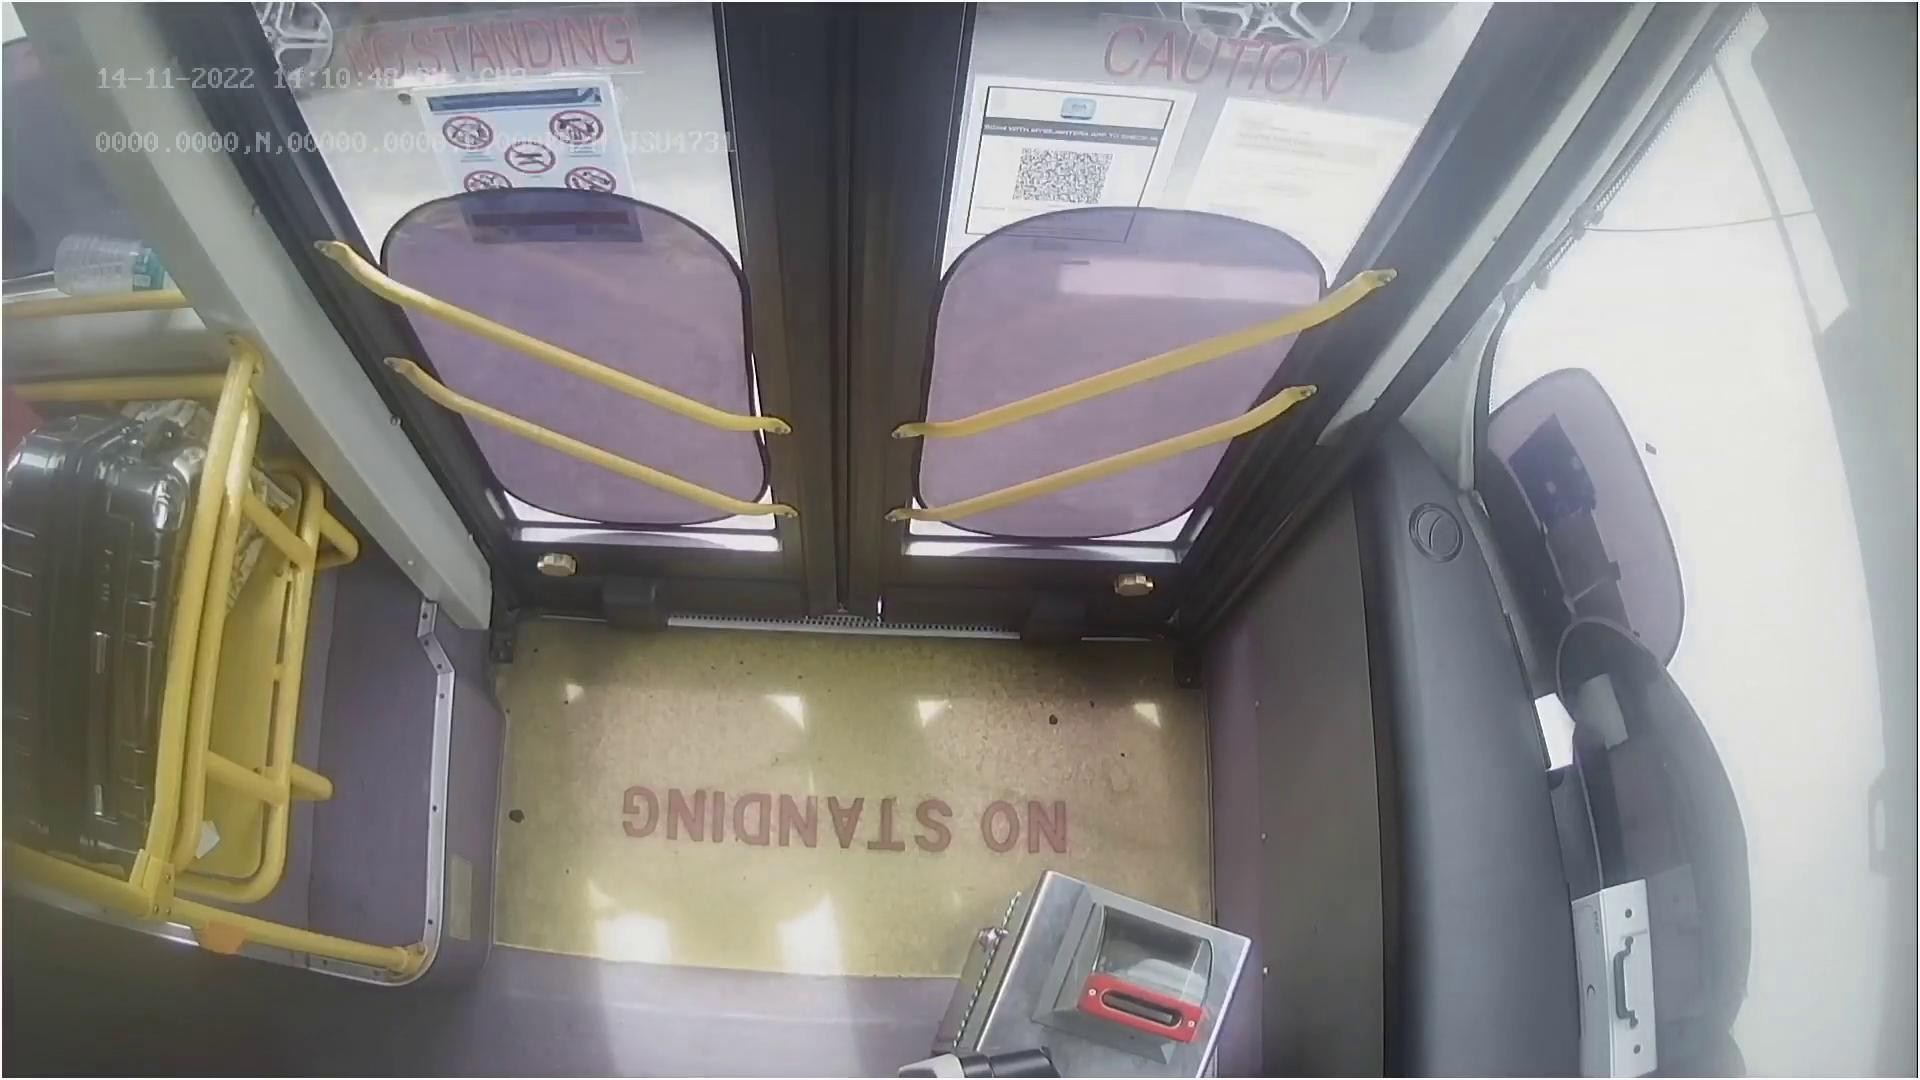close: (289, 0, 1439, 165)
